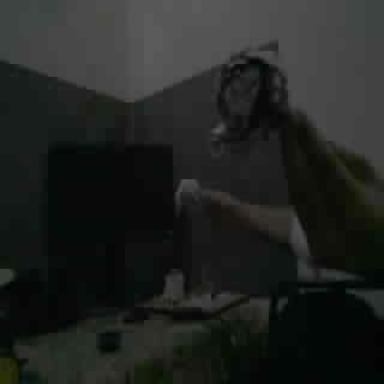paper: (212, 43, 288, 149), (176, 179, 200, 214)
